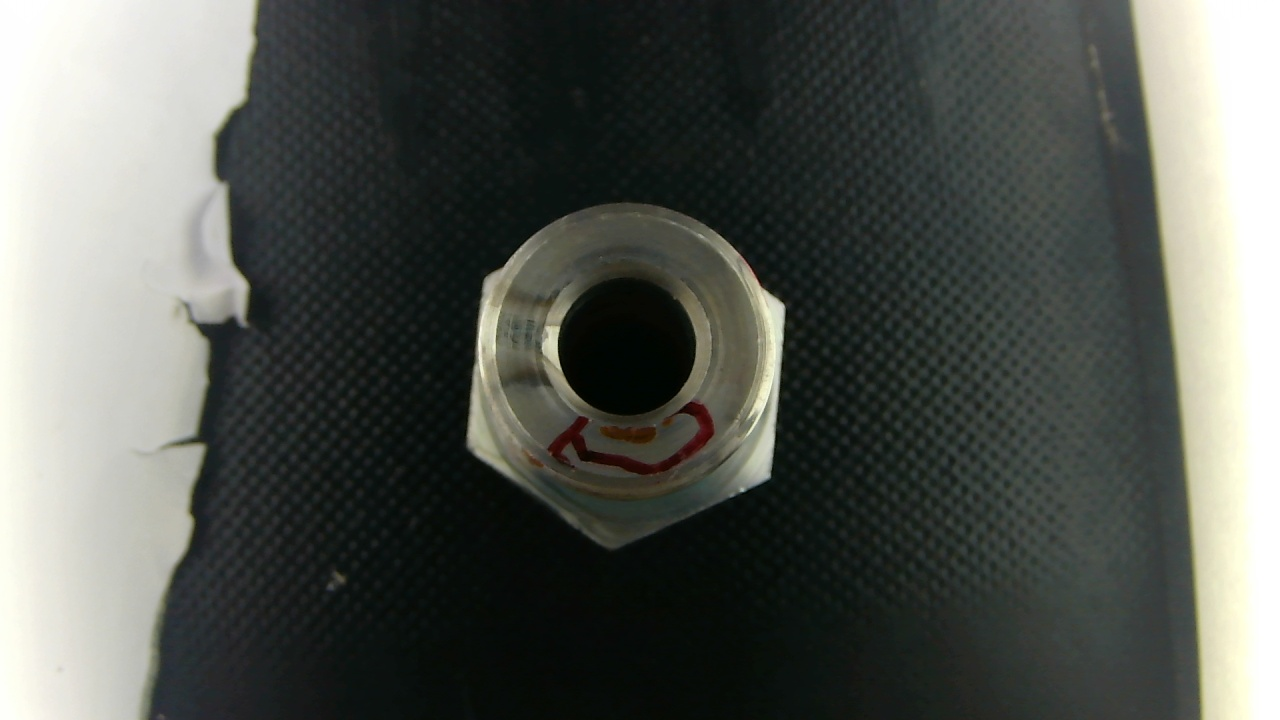blackpatch: (467, 270, 572, 415)
